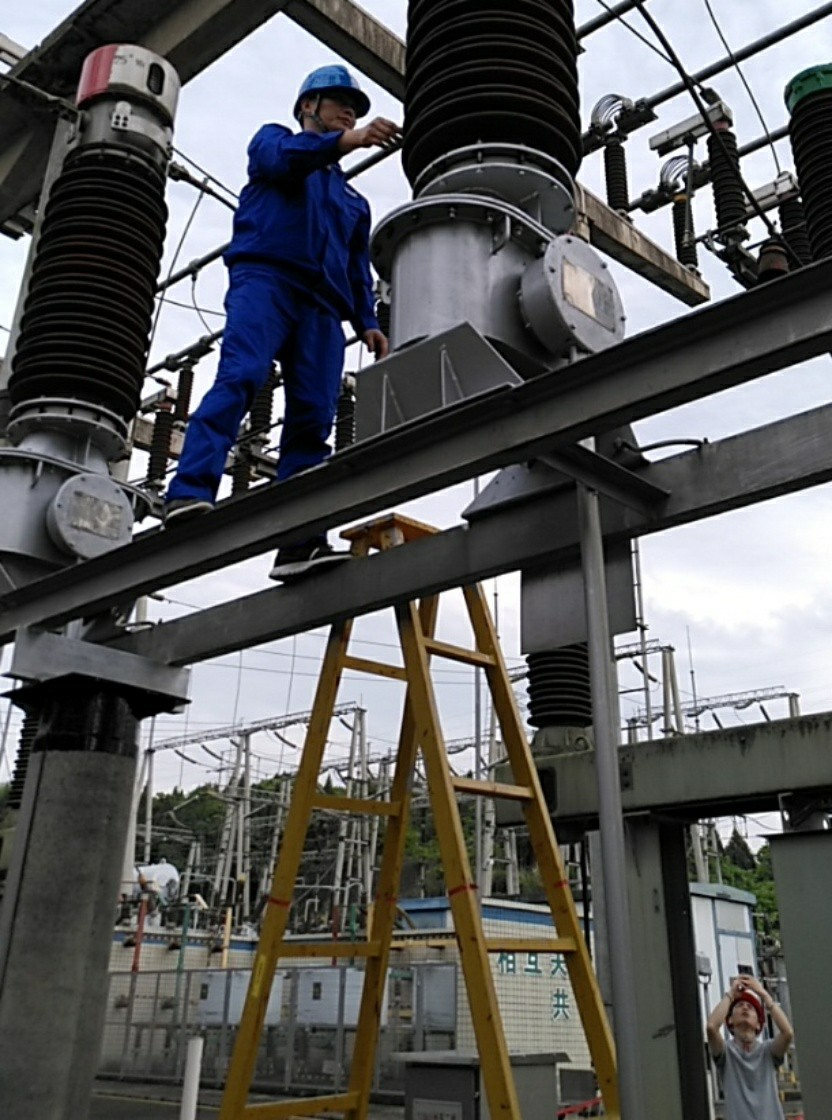hat: (287, 55, 368, 140)
no-hat: (717, 990, 773, 1046)
